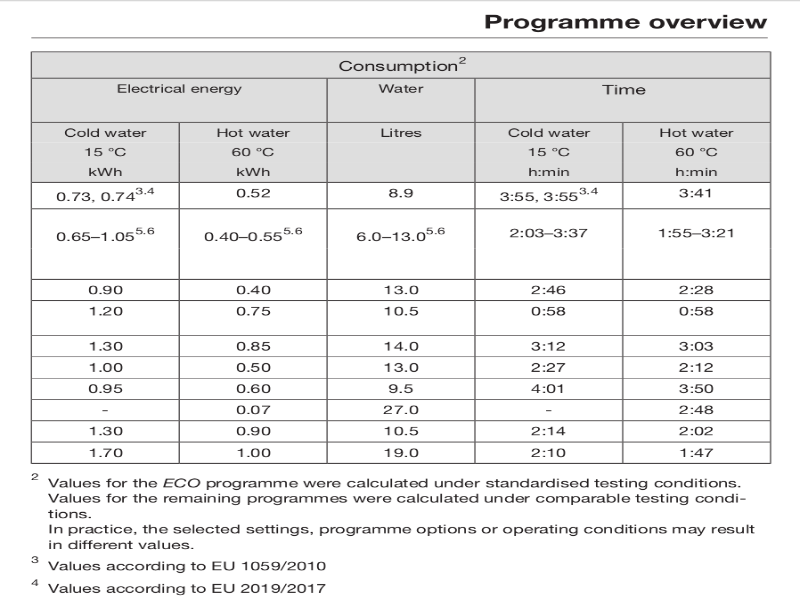border: (23, 42, 784, 468)
cell: (504, 125, 600, 179), (208, 126, 305, 179), (59, 126, 157, 178), (652, 125, 741, 179), (333, 54, 475, 75), (50, 222, 159, 247), (197, 224, 306, 247), (349, 223, 451, 247), (111, 80, 244, 98), (649, 222, 743, 245), (500, 225, 597, 245), (52, 186, 159, 204), (497, 187, 602, 204), (372, 124, 428, 143), (373, 80, 431, 98), (80, 304, 133, 321), (597, 82, 652, 98), (81, 337, 136, 353), (229, 185, 279, 202), (80, 281, 131, 297), (669, 185, 723, 200), (230, 282, 279, 297), (229, 303, 278, 318), (228, 338, 277, 353), (228, 360, 277, 375), (228, 381, 277, 396), (228, 402, 277, 417), (228, 423, 277, 438), (228, 444, 277, 459), (81, 361, 137, 374), (80, 381, 136, 394), (79, 403, 135, 416), (79, 424, 135, 437), (78, 445, 134, 458), (526, 282, 573, 297), (525, 303, 572, 318), (525, 338, 572, 353), (525, 358, 572, 373), (524, 380, 571, 395), (524, 402, 571, 417), (524, 423, 571, 438), (524, 445, 571, 460), (672, 281, 719, 296), (672, 303, 719, 318), (672, 337, 719, 352), (672, 359, 719, 374), (672, 380, 719, 395), (672, 401, 719, 416), (672, 423, 719, 438), (672, 445, 719, 460), (379, 282, 425, 297), (379, 303, 425, 318), (379, 337, 425, 352), (379, 359, 425, 374), (379, 380, 425, 395), (378, 401, 424, 416), (378, 422, 424, 437), (378, 444, 424, 459), (381, 186, 418, 200)
